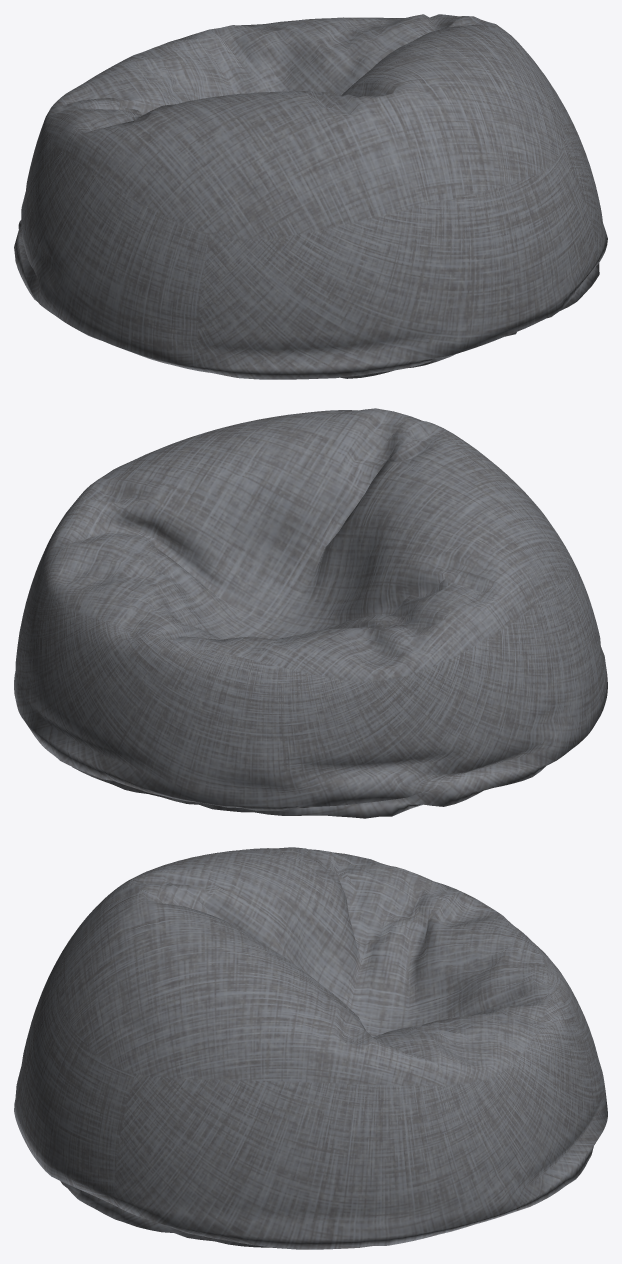
Rendered from beanbag.fbx.
The picture shows the model from 3 angles, top to bottom: view 1: azimuth 30°, elevation 25°; view 2: azimuth 150°, elevation 25°; view 3: azimuth 270°, elevation 25°; orthographic projection. The views are drawn at different scales.
Parts seen in each view (by area): view 1: beanbag; view 2: beanbag; view 3: beanbag.
Part boxes in pixels (x1,y1,x2,y2): beanbag: (14, 14, 607, 379); beanbag: (14, 408, 607, 818); beanbag: (14, 847, 607, 1249).
Bounding box in the file's own units: 122 × 51.38 × 119.
1 material, 1 textured.
